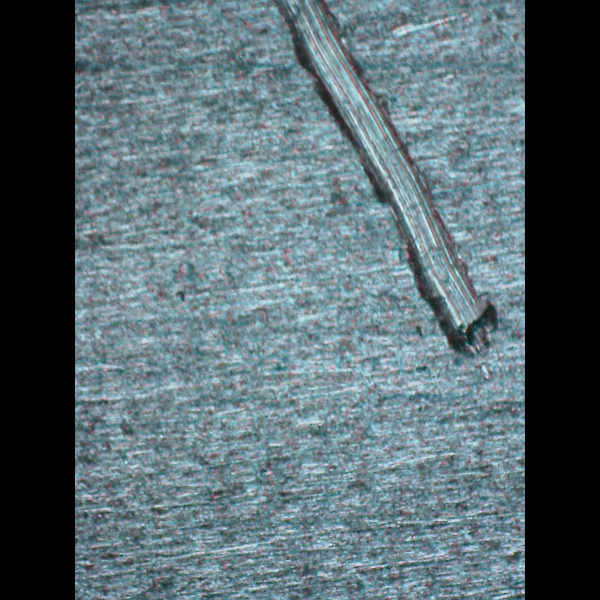d: (268, 0, 499, 358)
